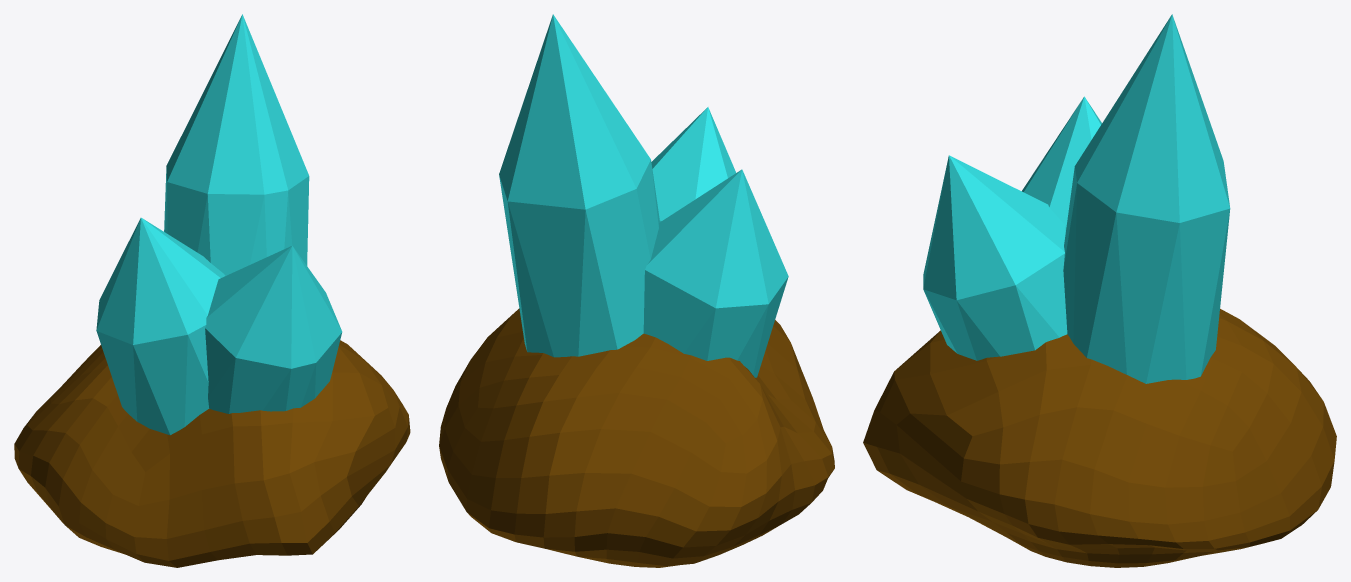
File: Mineral1.fbx
3 renders of one model, left to right at view 1: azimuth 30°, elevation 25°; view 2: azimuth 150°, elevation 25°; view 3: azimuth 270°, elevation 25°, orthographic. The views are drawn at different scales.
Parts seen in each view (by area): view 1: Cubo, Cilindro, Cilindro.002, Cilindro.001; view 2: Cubo, Cilindro, Cilindro.002, Cilindro.001; view 3: Cubo, Cilindro, Cilindro.001, Cilindro.002.
Boxes of the visible parts, x1=… form: Cubo: x1=14, y1=340, x2=410, y2=567; Cilindro: x1=164, y1=14, x2=309, y2=275; Cilindro.002: x1=96, y1=217, x2=225, y2=435; Cilindro.001: x1=205, y1=245, x2=342, y2=413; Cubo: x1=439, y1=308, x2=834, y2=567; Cilindro: x1=499, y1=14, x2=659, y2=357; Cilindro.002: x1=643, y1=169, x2=788, y2=377; Cilindro.001: x1=651, y1=107, x2=735, y2=221; Cubo: x1=863, y1=308, x2=1336, y2=567; Cilindro: x1=1063, y1=14, x2=1230, y2=383; Cilindro.001: x1=923, y1=155, x2=1067, y2=360; Cilindro.002: x1=1022, y1=96, x2=1101, y2=227.
Bounding box in the file's own units: 195 × 273 × 212.
